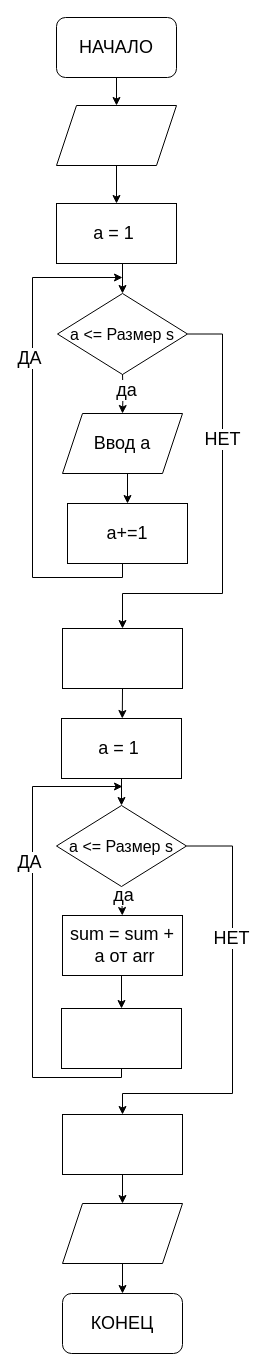
This 266x1371 diagram has some shape labels left out. The box of each missing label's shape, as (x1, y1, x2, y2) in pixels:
a +=1: (60, 1008, 182, 1068)
avg = sum / s: (62, 1114, 182, 1174)
sum = 0: (62, 628, 182, 688)
Ввод avg: (62, 1202, 182, 1264)
Ввод s: (56, 104, 176, 166)
